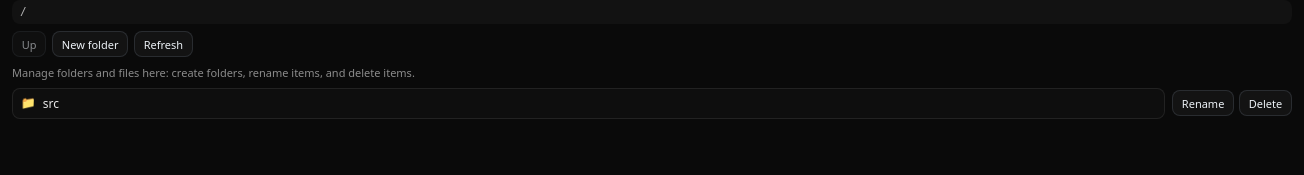
Scenario: WorkspaceFilePanel - Folder Navigation Unit Tests › Path display updates on navigation (Requirement 4.2) › should show full path for nested navigation
The image size is (1304, 175).
Click the text "src" at (51, 103), box top-left (43, 95), bottom-right (59, 112)
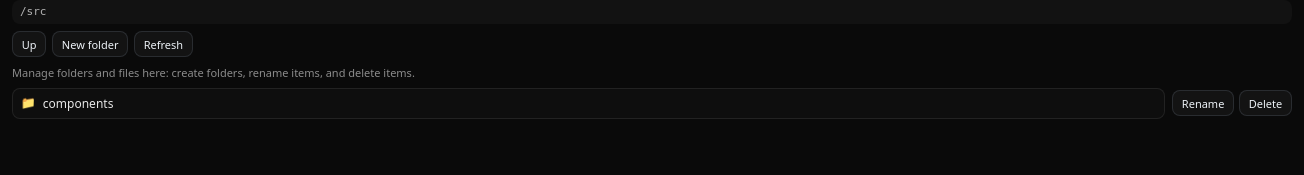
Expected: the text "/src" is shown, top-left (12, 0), bottom-right (1292, 24)
Click the text "components" at (78, 103), box top-left (43, 95), bottom-right (113, 112)
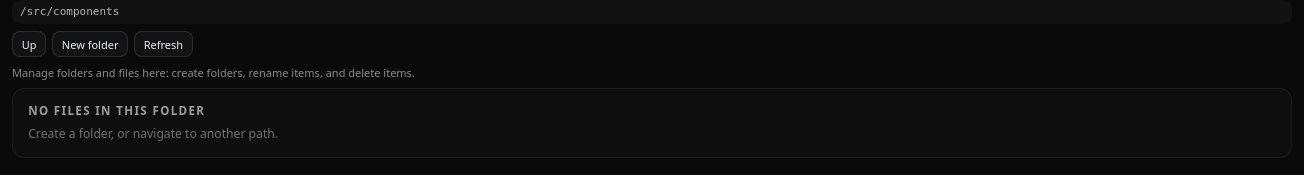
Expected: the text "/src/components" is shown, top-left (12, 0), bottom-right (1292, 24)
